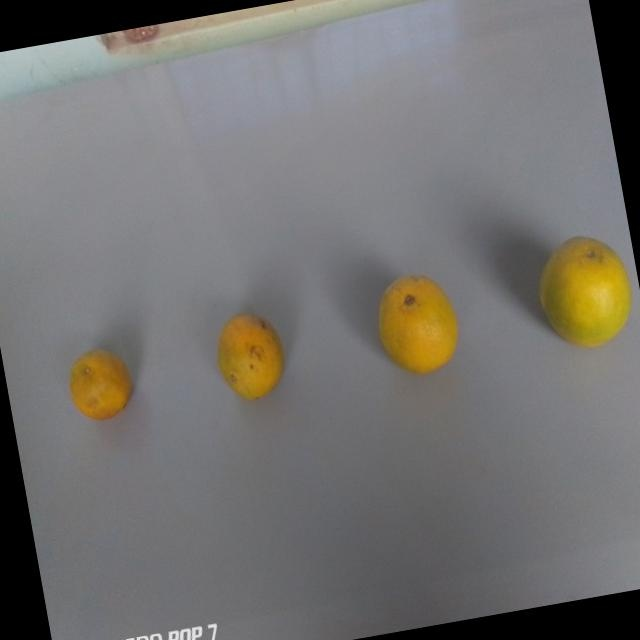agrume: (525, 220, 640, 362), (365, 257, 471, 387), (208, 302, 295, 413), (60, 336, 144, 440)
